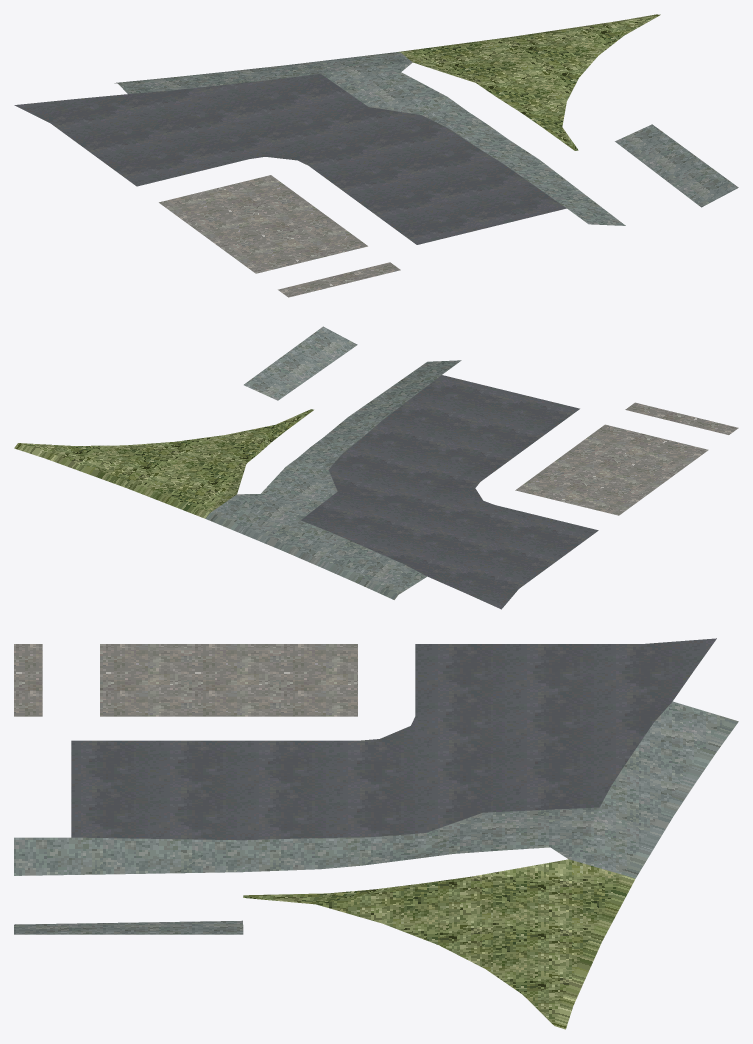
Rendered from lodasnland12.obj.
The picture shows the model from 3 angles, top to bottom: view 1: azimuth 30°, elevation 25°; view 2: azimuth 150°, elevation 25°; view 3: azimuth 270°, elevation 25°; orthographic projection. The views are drawn at different scales.
Parts seen in each view (by area): view 1: lodasNland12; view 2: lodasNland12; view 3: lodasNland12.
Part boxes in pixels (left/top/right/bottom): lodasNland12: left=14, top=14, right=738, bottom=297; lodasNland12: left=14, top=326, right=738, bottom=609; lodasNland12: left=14, top=638, right=738, bottom=1029.
Bounding box in the file's own units: 312 × 5.5 × 253.
Materials: 4 (4 with a texture image).
